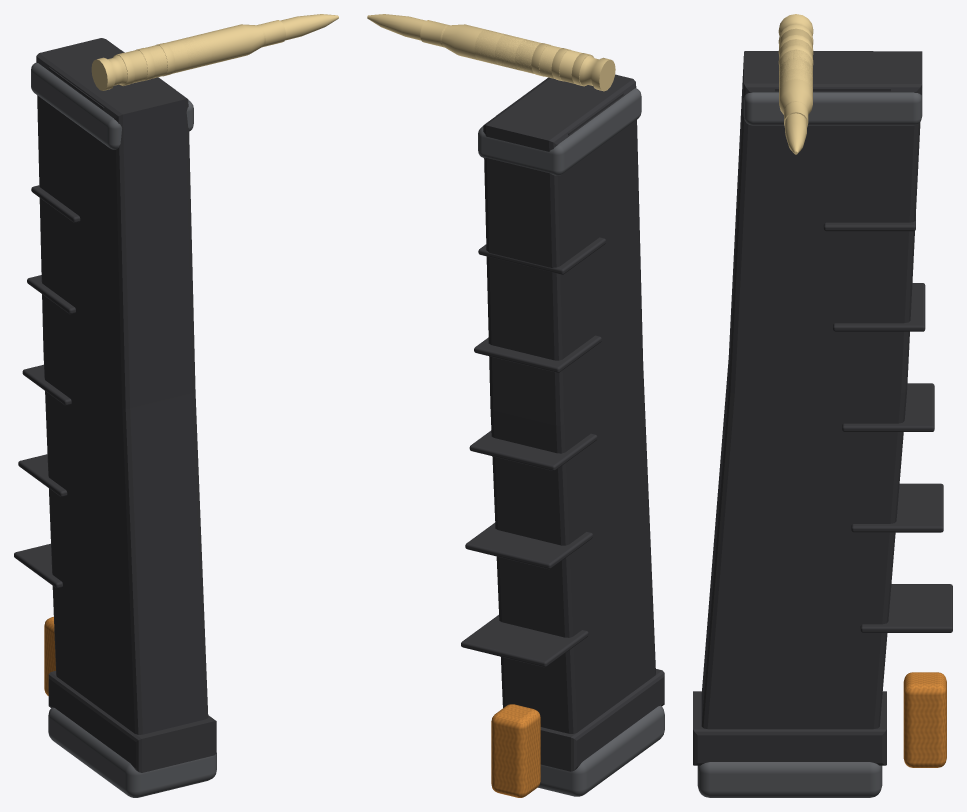
Rendered from arctic-station-fps-kit-extended-magazine-bbdd7243__28514.glb.
The picture shows the model from 3 angles, left to right: view 1: azimuth 30°, elevation 25°; view 2: azimuth 150°, elevation 25°; view 3: azimuth 270°, elevation 25°; orthographic projection. The views are drawn at different scales.
Visible parts, largest first — view 1: extended-magazine; view 2: extended-magazine; view 3: extended-magazine.
Part boxes in pixels (x1=…): extended-magazine: x1=14, y1=14, x2=338, y2=797; extended-magazine: x1=367, y1=14, x2=664, y2=797; extended-magazine: x1=693, y1=14, x2=952, y2=797.
Bounding box in the file's own units: 0.101 × 0.2686 × 0.0845.
4 materials, 1 textured.
